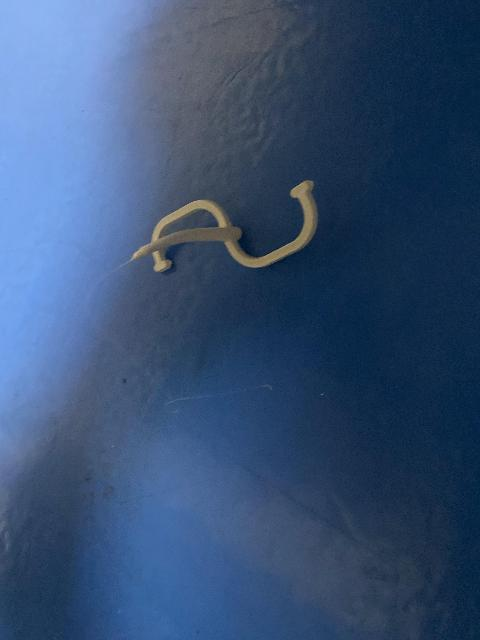Plastik: (129, 168, 321, 281)
